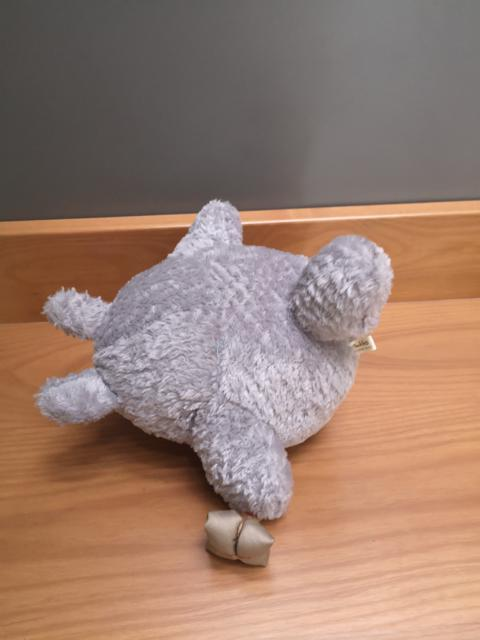totoro: (32, 192, 396, 571)
